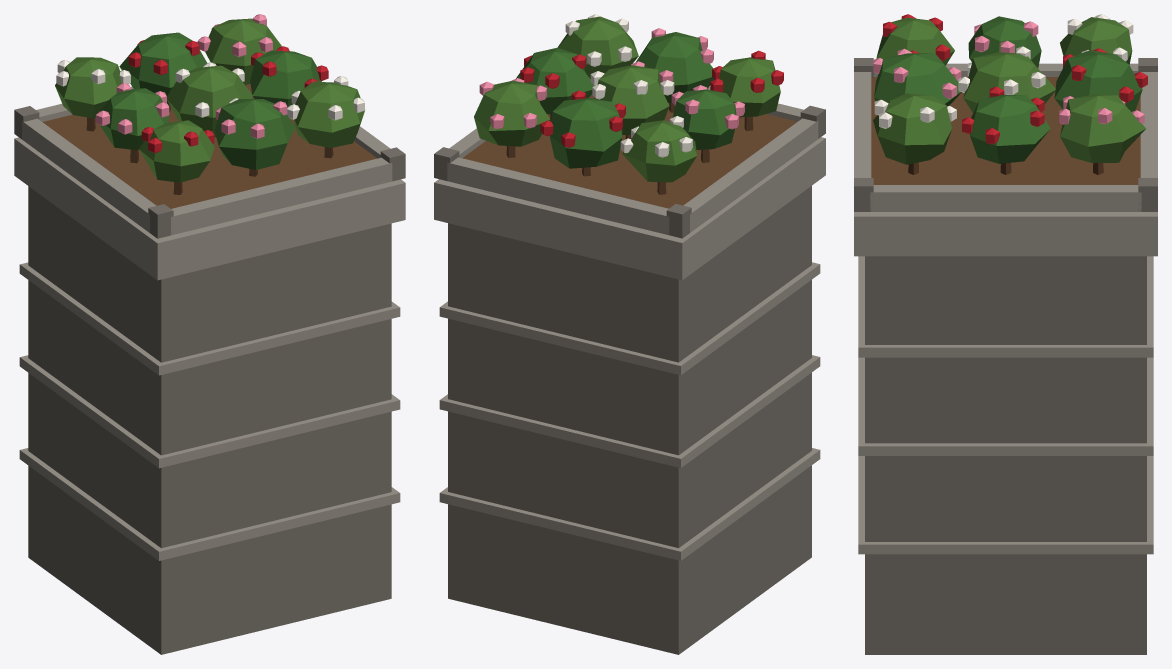
File: decor_rose_bed.glb
3 renders of one model, left to right at view 1: azimuth 30°, elevation 25°; view 2: azimuth 150°, elevation 25°; view 3: azimuth 270°, elevation 25°, orthographic. The views are drawn at different scales.
Parts seen in each view (by area): view 1: decor_rose_bed; view 2: decor_rose_bed; view 3: decor_rose_bed.
Boxes of the visible parts, box(x1,y1,x2,y2) form: decor_rose_bed: box(14, 14, 405, 654); decor_rose_bed: box(434, 14, 825, 654); decor_rose_bed: box(854, 14, 1157, 654).
Bounding box in the file's own units: 2.8 × 5.5 × 2.8.
